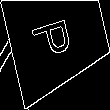P_E: (33, 16, 83, 65)
